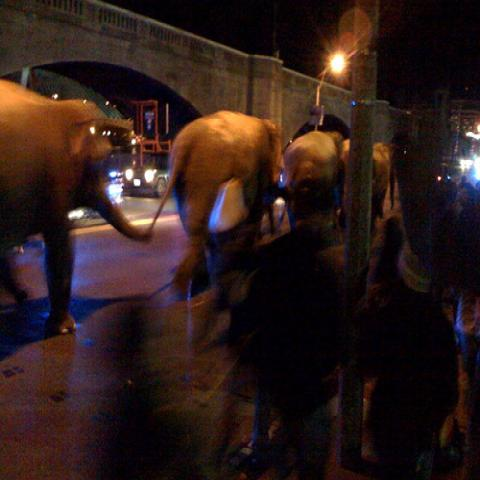car: (126, 154, 171, 196)
